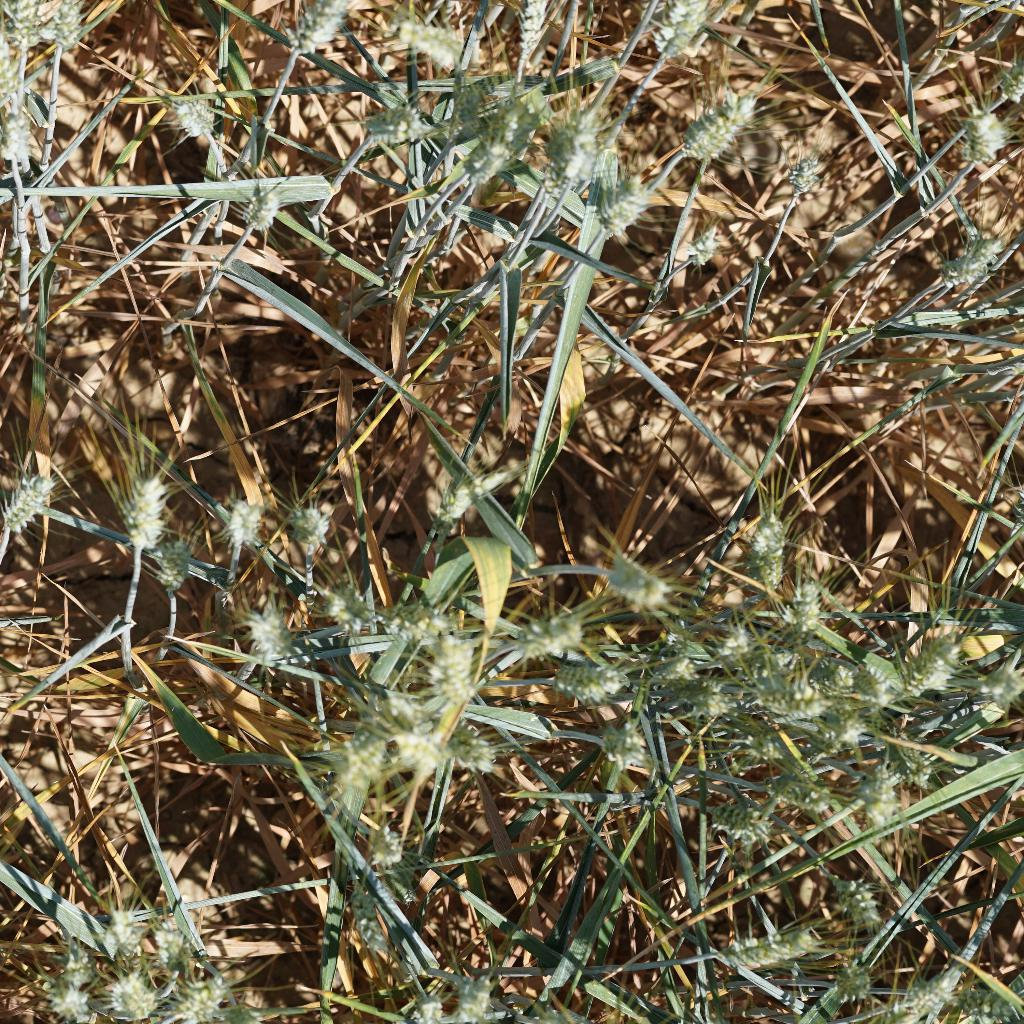0-0: (664, 85, 762, 179), (712, 916, 830, 972), (326, 706, 406, 784), (882, 627, 961, 702), (417, 468, 497, 541), (639, 0, 732, 60), (761, 668, 841, 737), (492, 0, 578, 64), (116, 474, 182, 555), (847, 759, 912, 841), (455, 111, 523, 187), (739, 492, 788, 593), (423, 702, 490, 774), (0, 458, 63, 533), (272, 0, 347, 60), (552, 649, 621, 714), (825, 866, 890, 933), (591, 175, 653, 245), (703, 789, 780, 845), (385, 12, 473, 60), (425, 619, 478, 697), (512, 602, 587, 657), (593, 710, 651, 781), (38, 0, 97, 68), (344, 878, 392, 961), (549, 116, 605, 187), (776, 755, 832, 826), (230, 183, 296, 243), (213, 490, 269, 560), (287, 493, 342, 563), (154, 534, 208, 605), (955, 108, 1012, 175), (942, 230, 1001, 294), (597, 549, 664, 605), (965, 657, 1024, 720), (240, 587, 288, 664), (355, 108, 429, 157), (443, 968, 507, 1024), (51, 955, 101, 1024), (658, 677, 735, 721), (814, 650, 871, 707), (784, 572, 828, 643), (109, 972, 168, 1024), (96, 890, 142, 956), (388, 590, 437, 649), (164, 972, 219, 1024), (697, 612, 750, 665), (0, 0, 49, 56), (169, 88, 217, 145), (141, 922, 197, 967), (0, 103, 39, 165), (366, 818, 415, 866), (827, 961, 878, 1007), (314, 580, 359, 631), (642, 630, 686, 680), (894, 985, 949, 1024), (783, 150, 825, 199), (679, 223, 721, 271)
